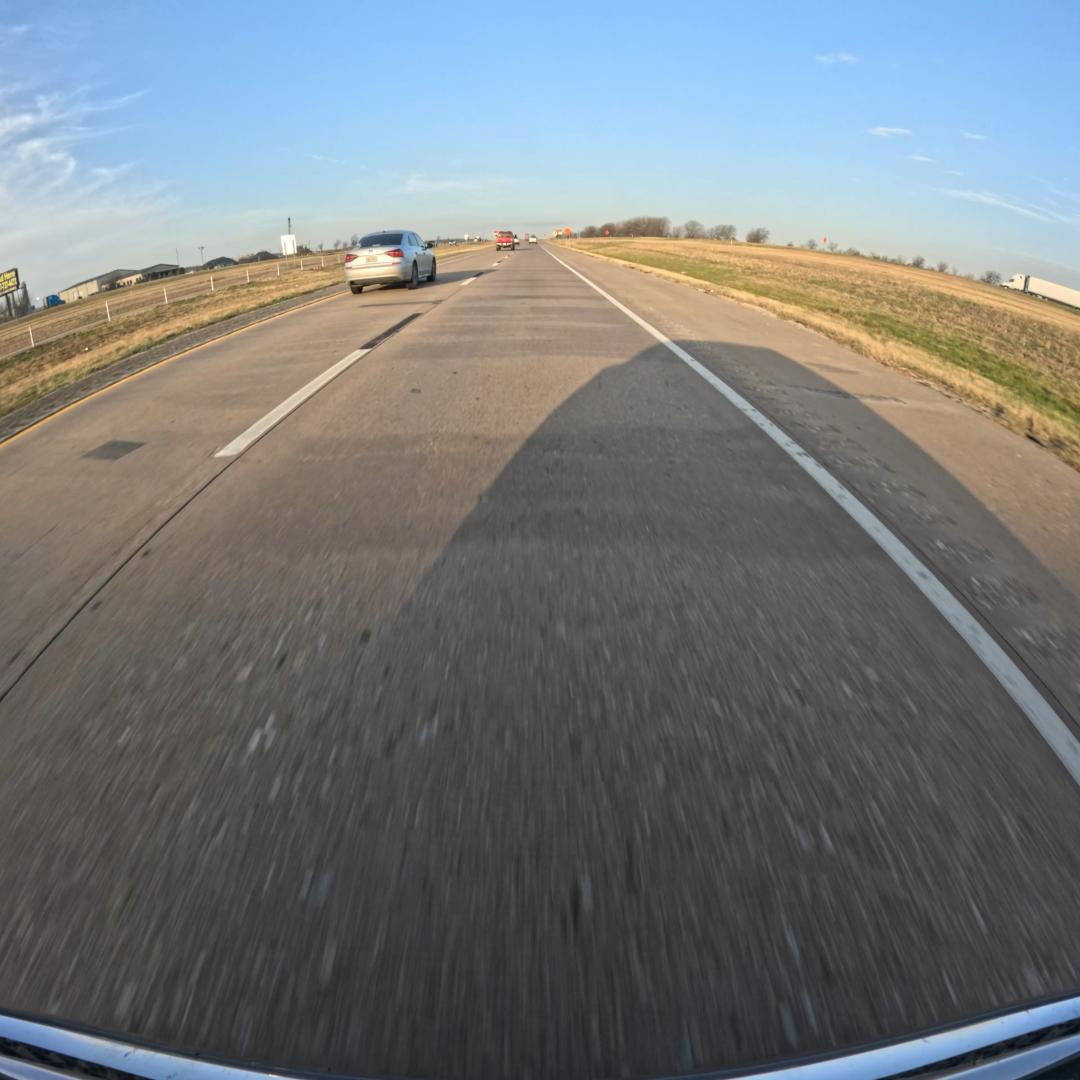lane0: (0, 250, 1080, 1077)
lane1: (0, 250, 496, 700)
